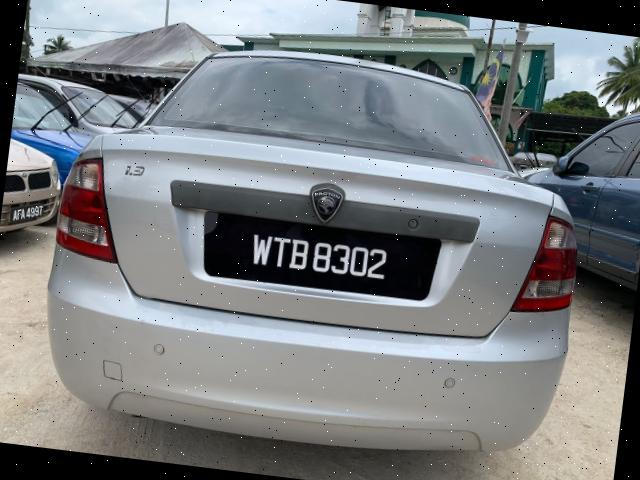License_Plate: (211, 218, 411, 298), (7, 194, 50, 230)
car: (36, 28, 602, 476), (536, 90, 640, 292)
